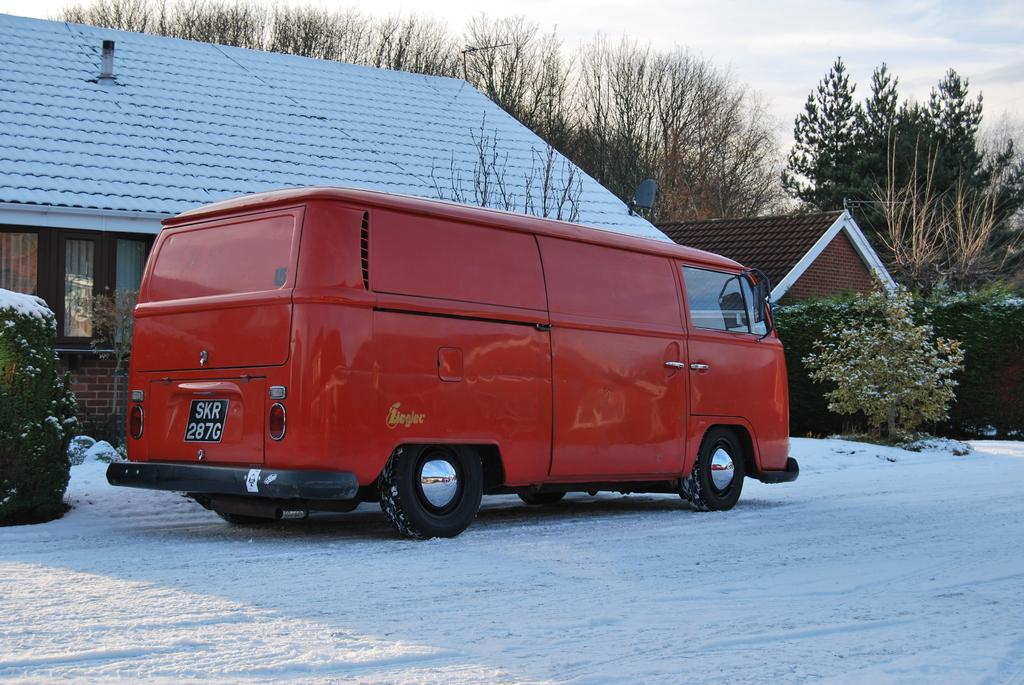vehicle: (107, 187, 799, 540)
